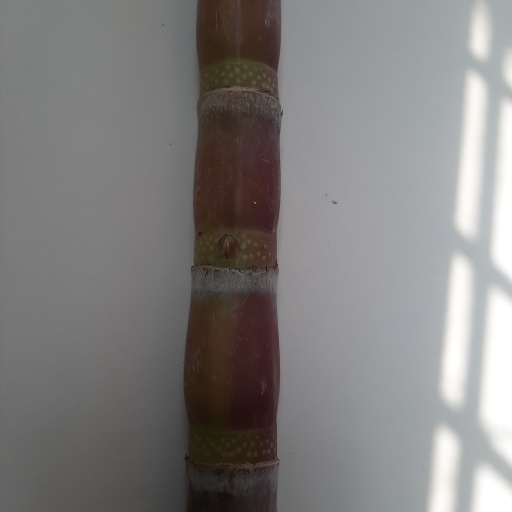Bud: (213, 233, 240, 263)
